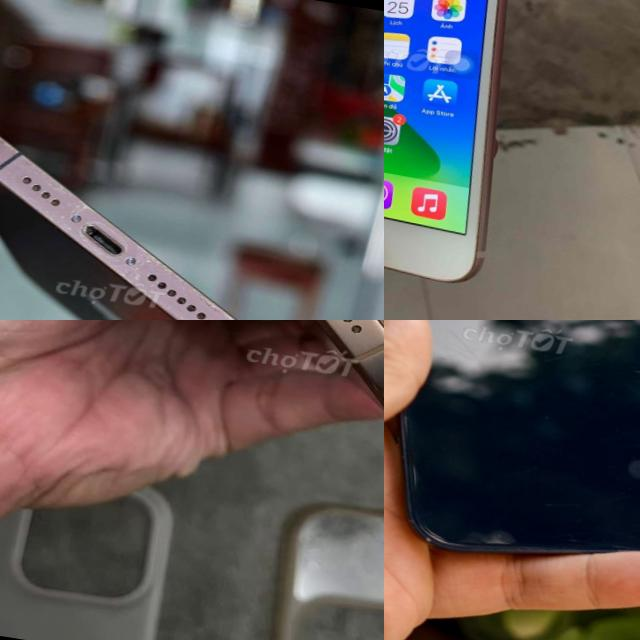gen_12_13: (384, 320, 640, 596)
gen_14: (0, 103, 330, 320)
gen_16: (66, 320, 384, 416)
gen_6: (384, 0, 556, 290)
scratch: (17, 169, 156, 286), (137, 242, 243, 318), (0, 140, 22, 171)
